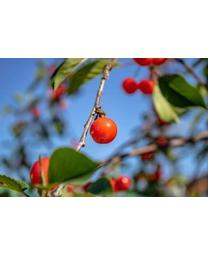cherry: (88, 116, 118, 144), (138, 77, 154, 96), (123, 76, 137, 94)
